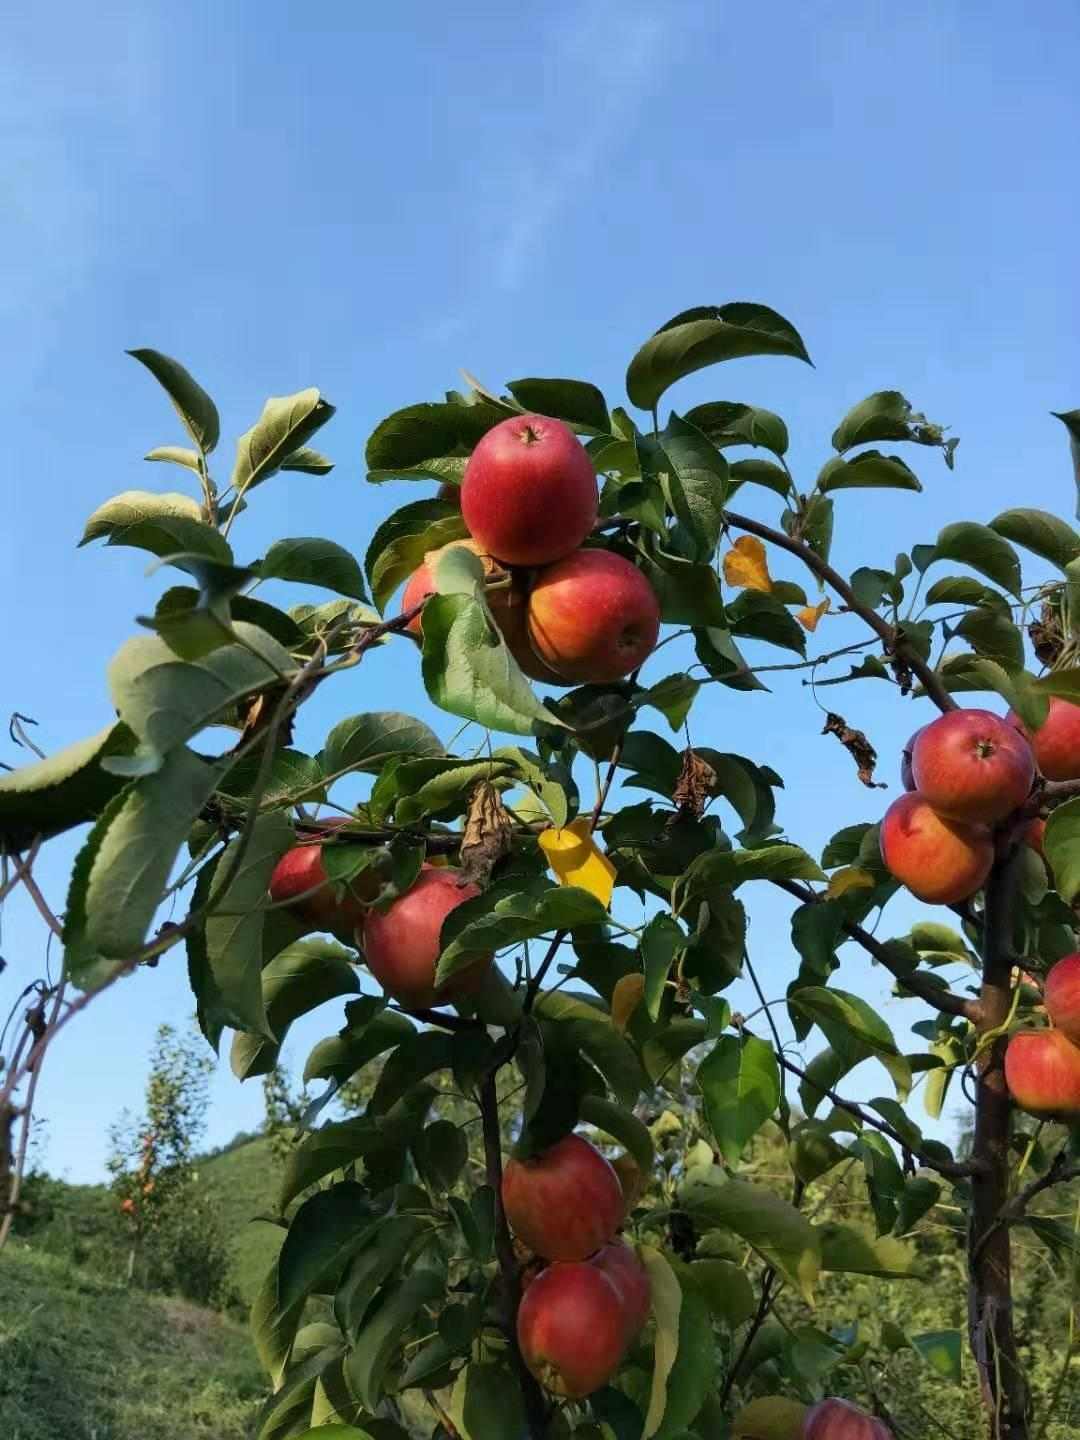apple: (457, 413, 599, 568), (518, 551, 663, 692), (357, 863, 481, 1002), (517, 1261, 636, 1401), (497, 1134, 621, 1264), (906, 704, 1033, 823), (876, 789, 989, 905), (268, 839, 352, 933), (1001, 1027, 1080, 1117), (1016, 698, 1079, 786)
